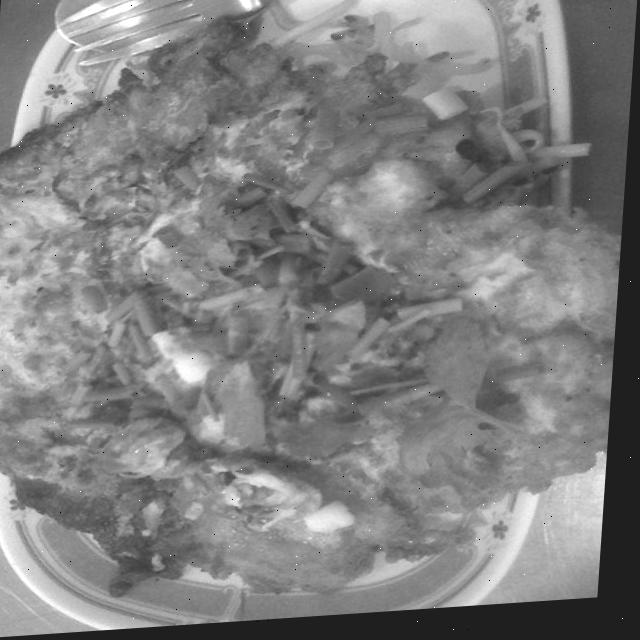炸货点心: (0, 0, 635, 640)
蛋糕甜品: (0, 0, 635, 640)
